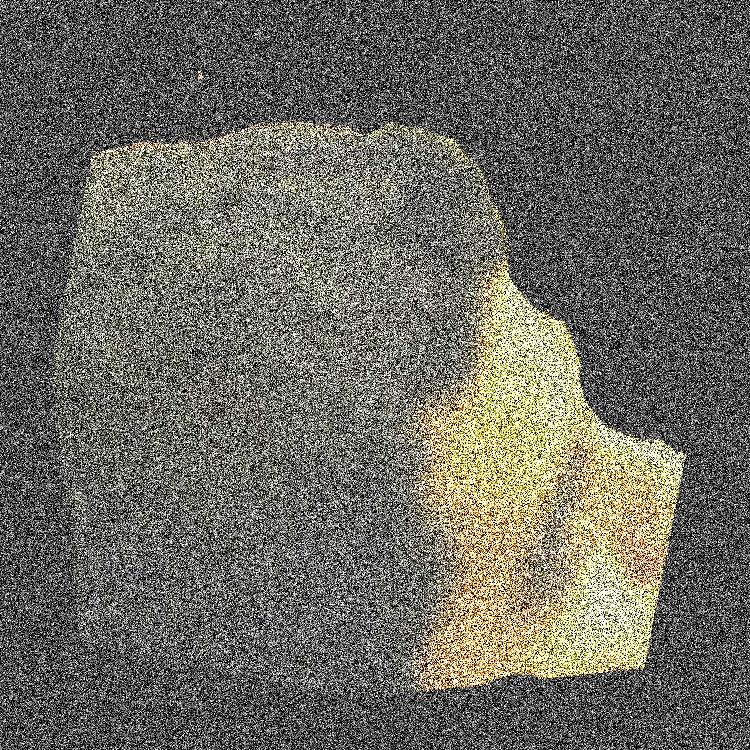Pessoa: (158, 0, 597, 749)
